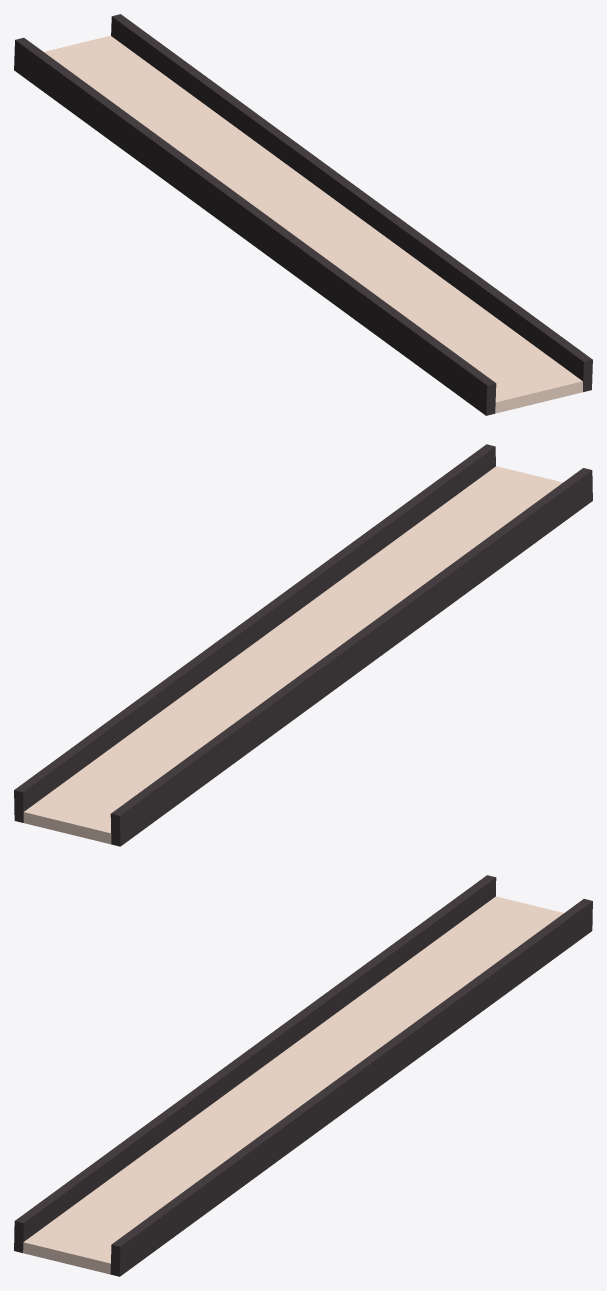
The model's file is Konveyor.fbx.
3 views of the same model, one above another, from view 1: azimuth 30°, elevation 25°; view 2: azimuth 150°, elevation 25°; view 3: azimuth 330°, elevation 25° (orthographic).
Visible parts, largest first — view 1: Konveyor; view 2: Konveyor; view 3: Konveyor.
Part boxes in pixels (left/top/right/bottom): Konveyor: left=14, top=14, right=592, bottom=415; Konveyor: left=14, top=444, right=592, bottom=846; Konveyor: left=14, top=875, right=592, bottom=1276.
Size of the model in its own units: 109 by 29.62 by 836.
